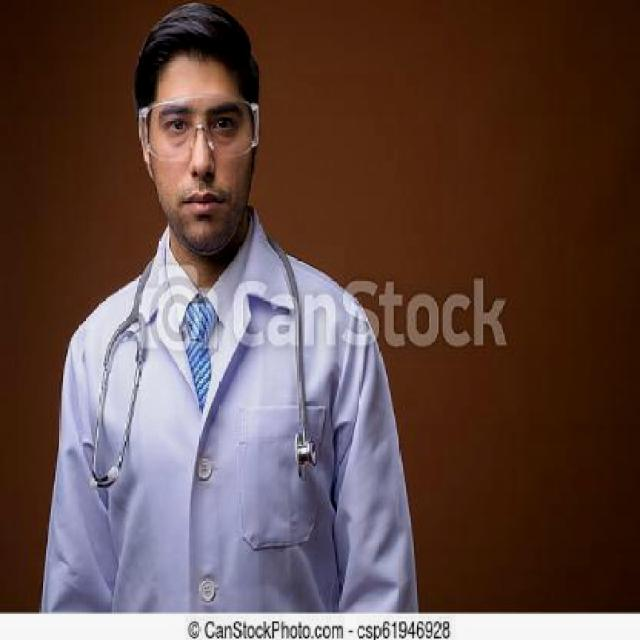face_nomask: (157, 106, 246, 225)
glasses: (135, 91, 260, 162)
head_nohelmet: (133, 8, 264, 81)
person: (33, 4, 413, 611)
